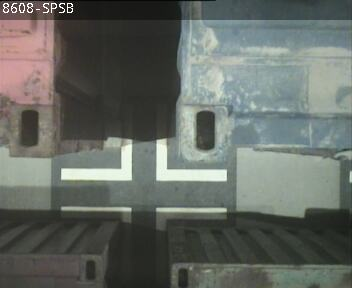groundmarker_1: (60, 104, 227, 183), (61, 205, 228, 284)
